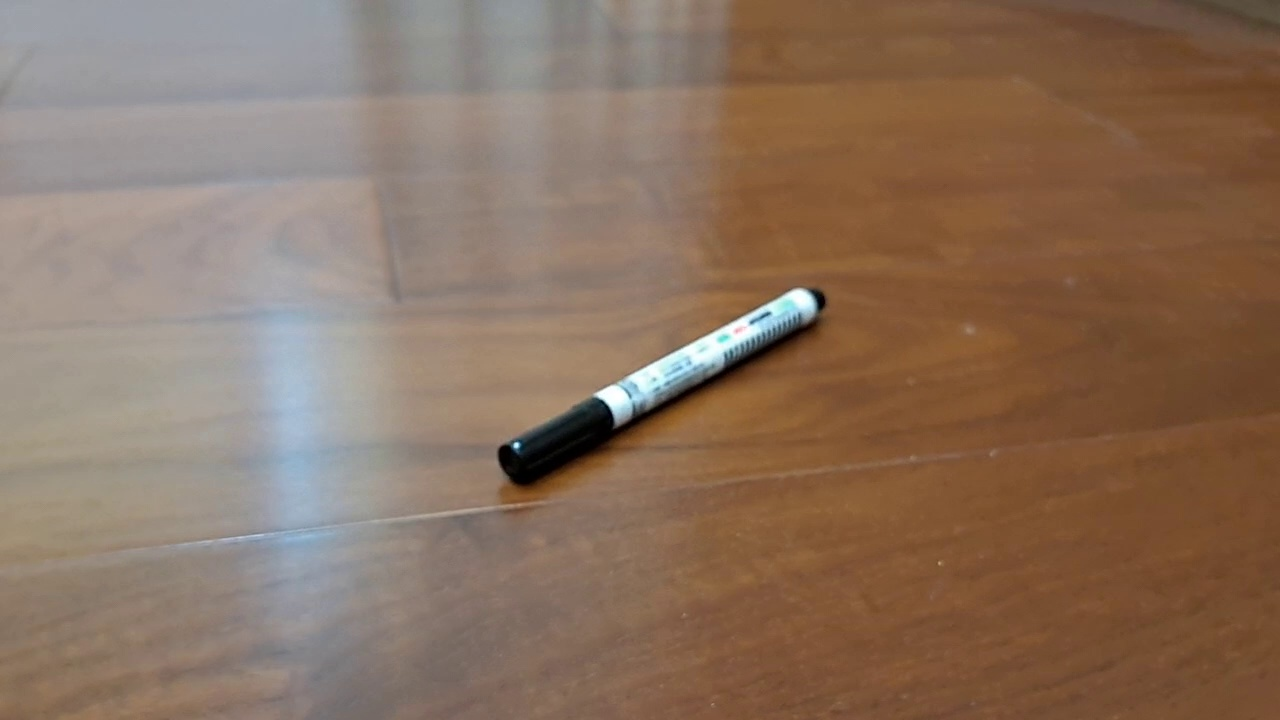pen: (497, 287, 825, 485)
